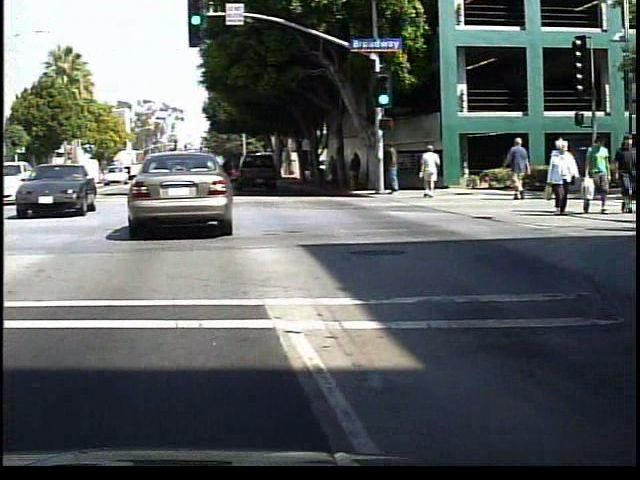person: (547, 138, 583, 218), (586, 135, 618, 216), (508, 138, 540, 202), (617, 129, 639, 216), (421, 142, 446, 200), (387, 139, 407, 200), (352, 147, 370, 192), (332, 152, 348, 189)
